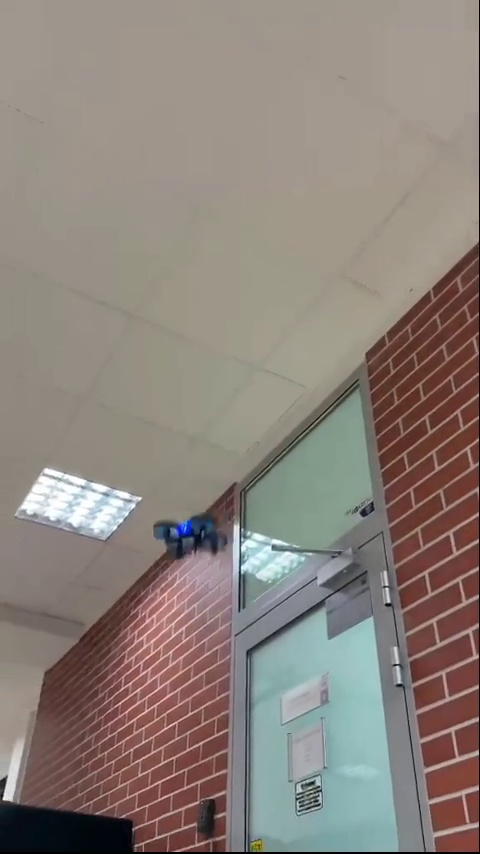drone: (150, 517, 224, 559)
